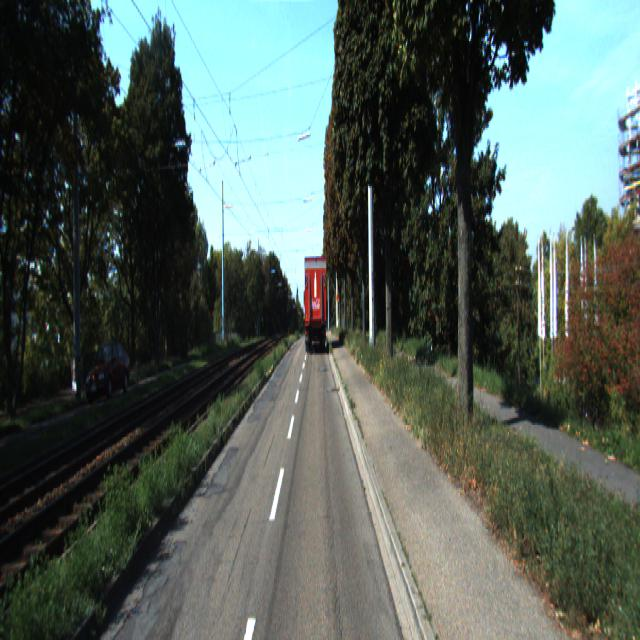Car: (84, 339, 133, 407), (302, 250, 327, 351)
